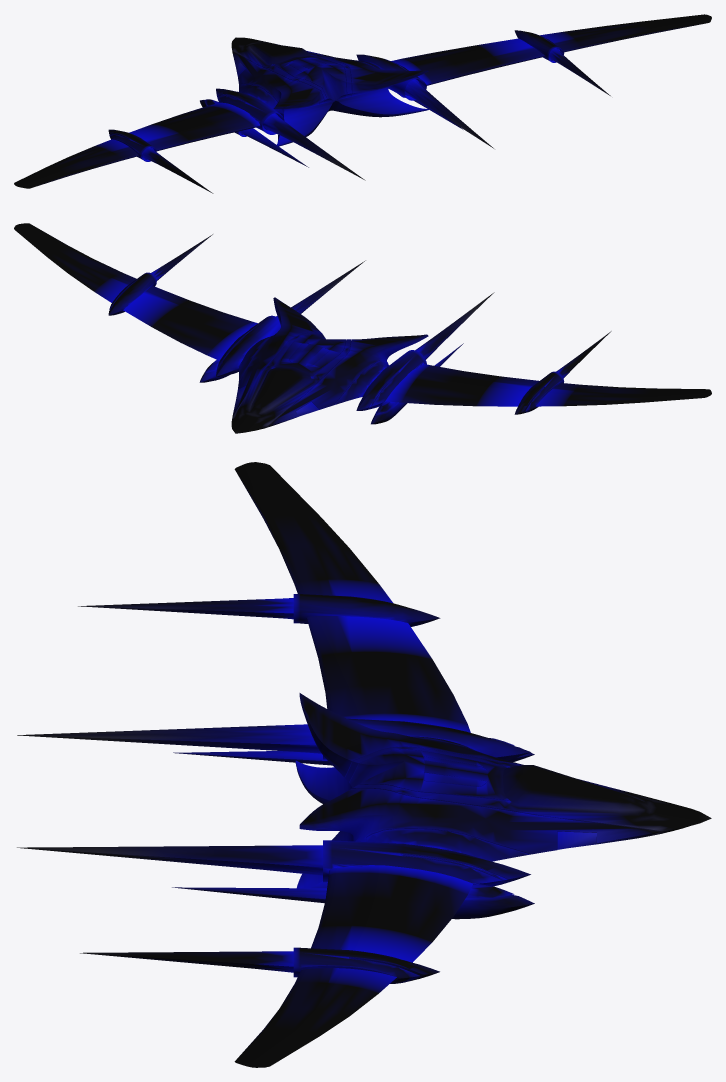
Rendered from ff_bomber_01.fbx.
3 views of the same model, one above another, from view 1: azimuth 30°, elevation 25°; view 2: azimuth 150°, elevation 25°; view 3: azimuth 270°, elevation 25° (orthographic). The views are drawn at different scales.
Parts seen in each view (by area): view 1: ff_bomber_01; view 2: ff_bomber_01; view 3: ff_bomber_01.
Boxes of the visible parts, left/top/right/bottom form: ff_bomber_01: left=14, top=14, right=711, bottom=193; ff_bomber_01: left=14, top=223, right=711, bottom=433; ff_bomber_01: left=17, top=462, right=711, bottom=1067.
Size of the model in its own units: 2601 by 175 by 1267.
